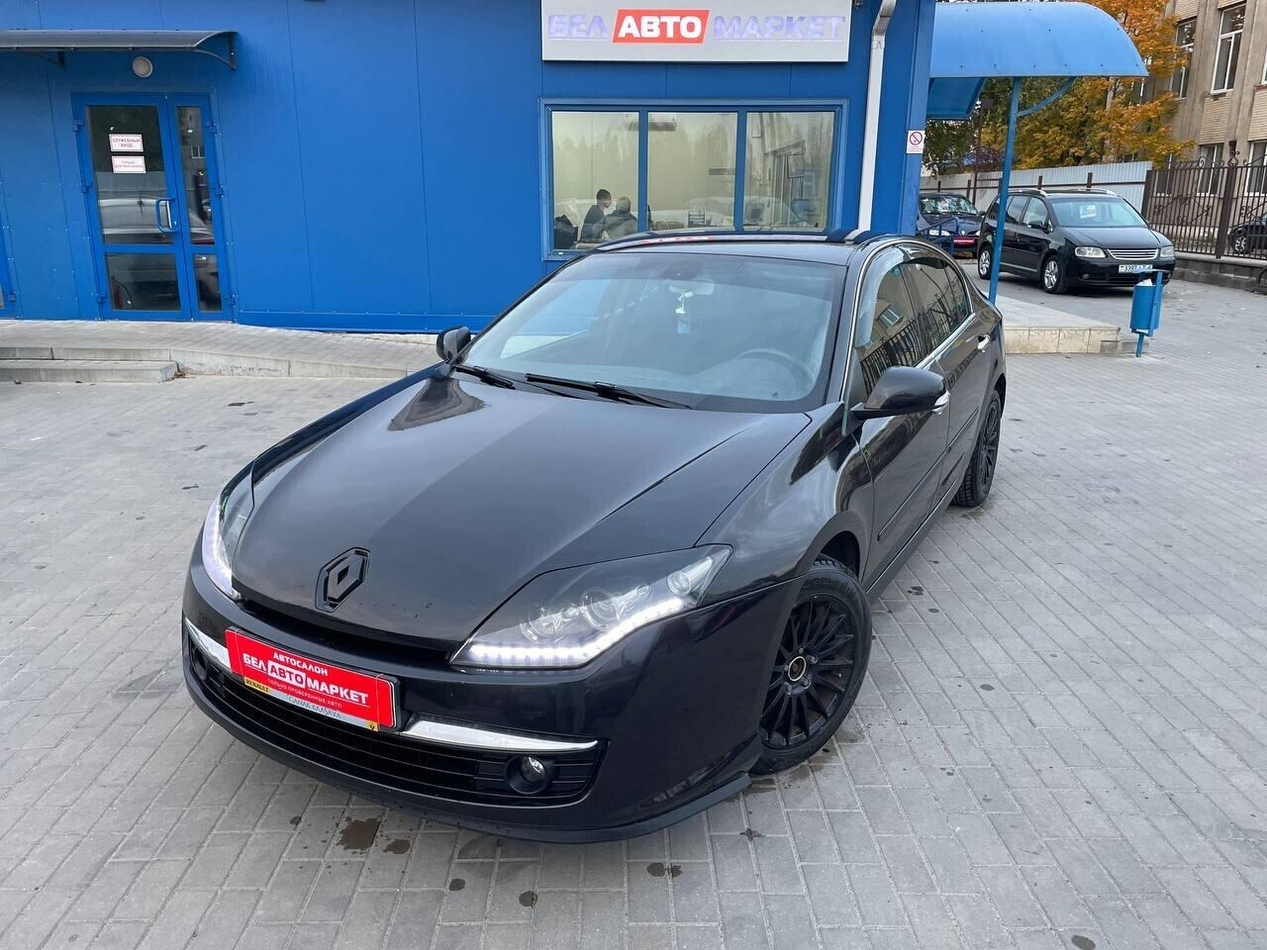Laguna_2010-2015: (171, 221, 1024, 821)
